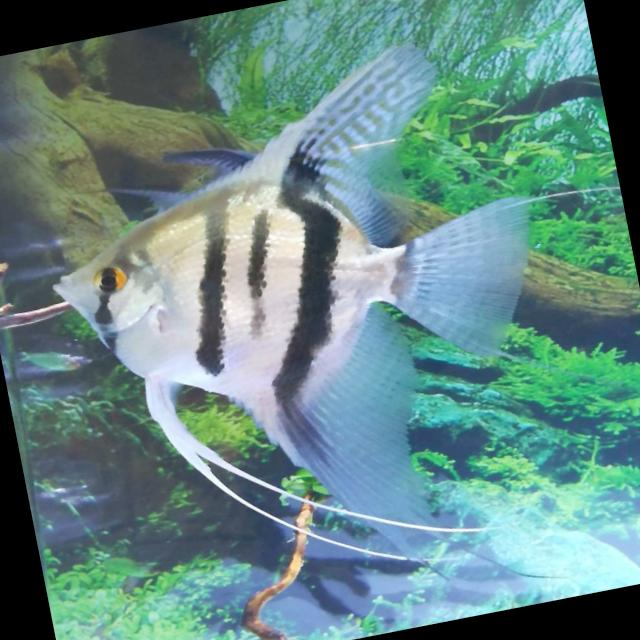AngelFish: (20, 27, 595, 624)
